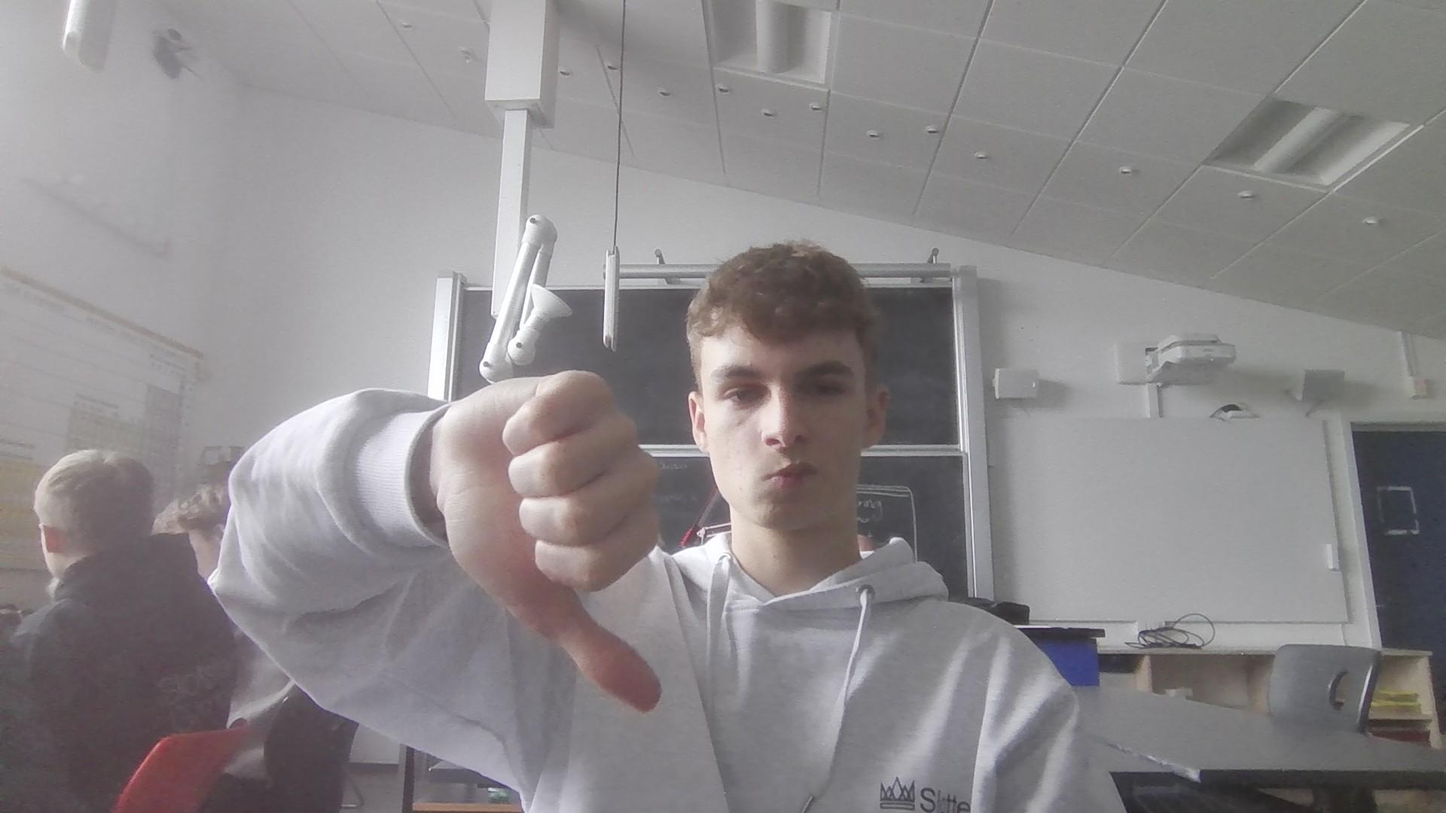thumbs down: (432, 353, 670, 730)
